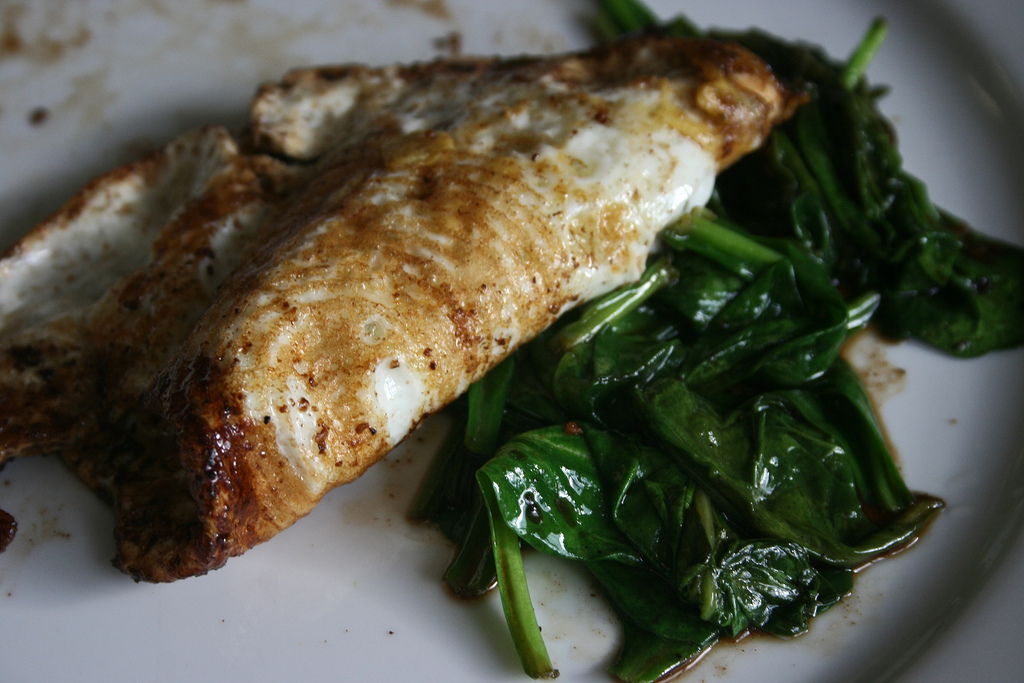fried egg: (17, 92, 716, 539)
